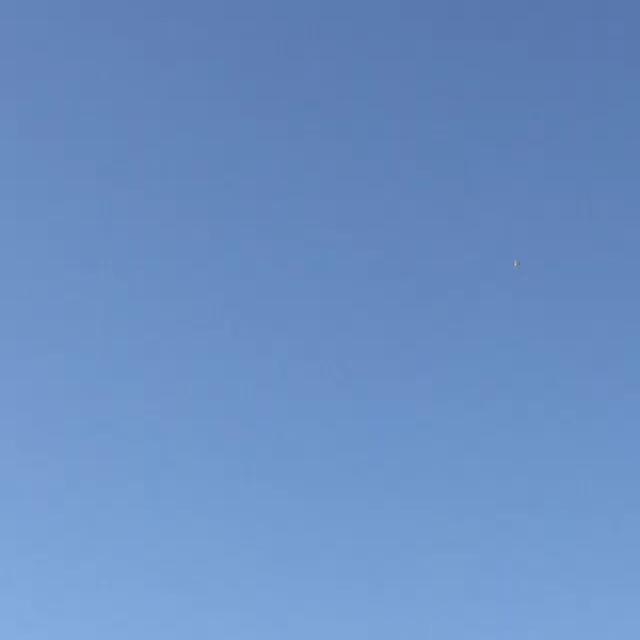AirPlane: (504, 249, 529, 280)
